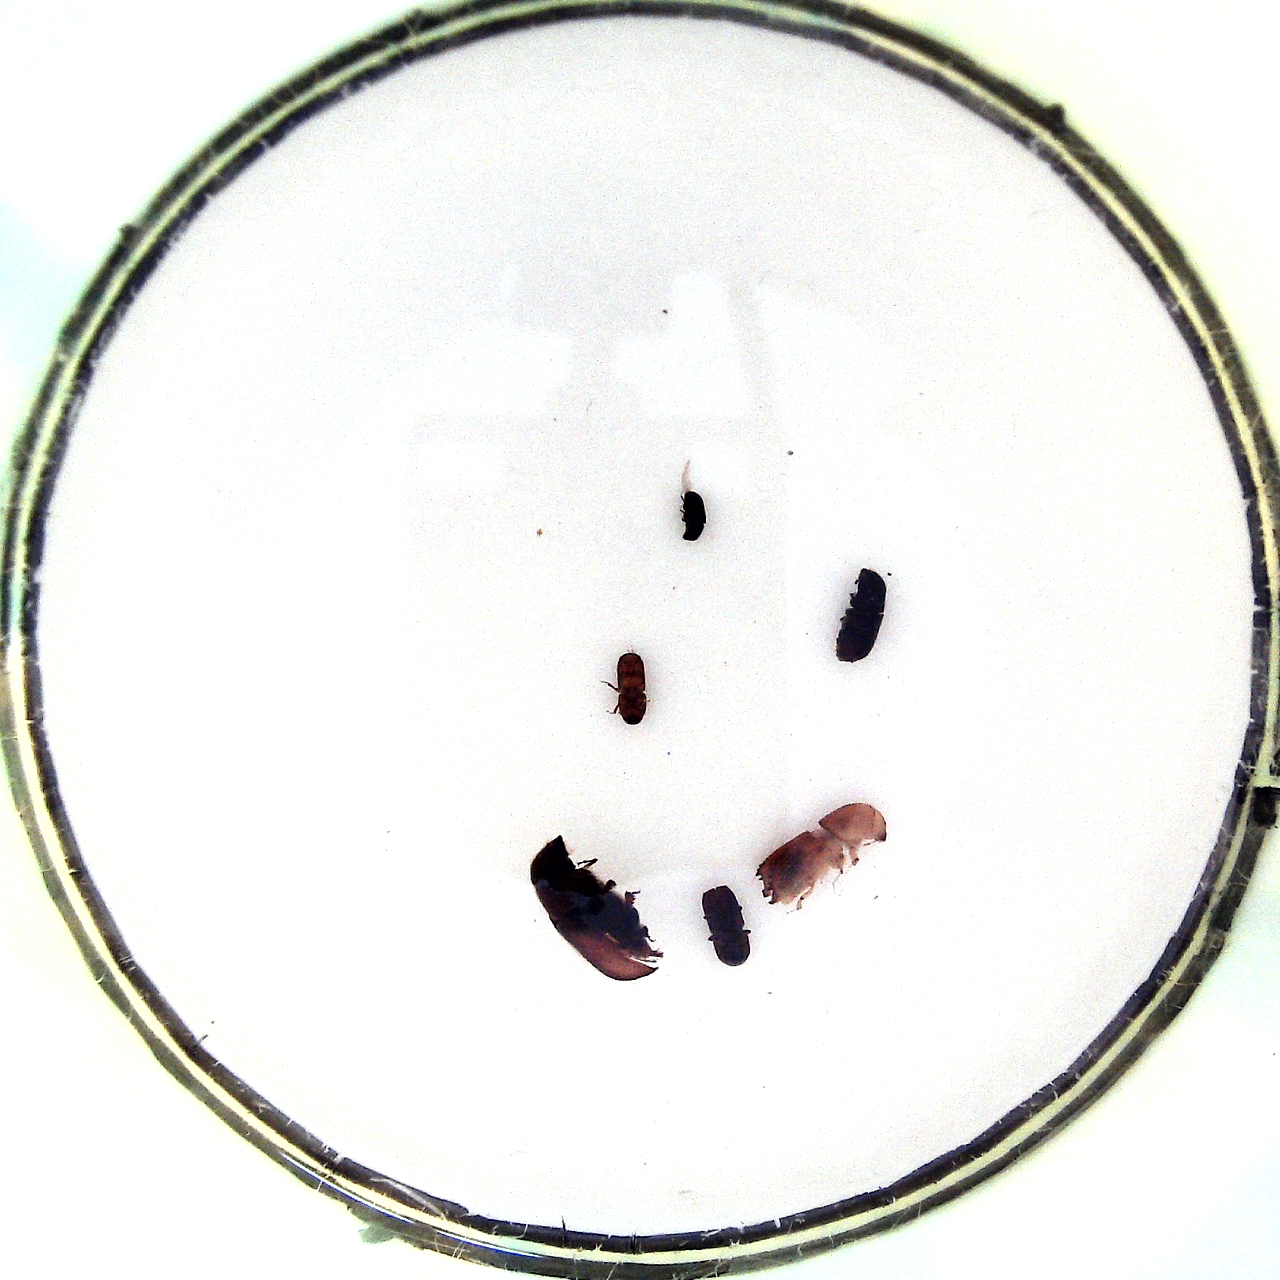Boerner: (753, 804, 890, 912)
Leconte: (518, 832, 663, 981)
Linnaeus: (694, 884, 753, 968)
acuminatus: (597, 651, 651, 735)
armandi: (825, 568, 890, 669)
coleoptera: (670, 481, 708, 549)
